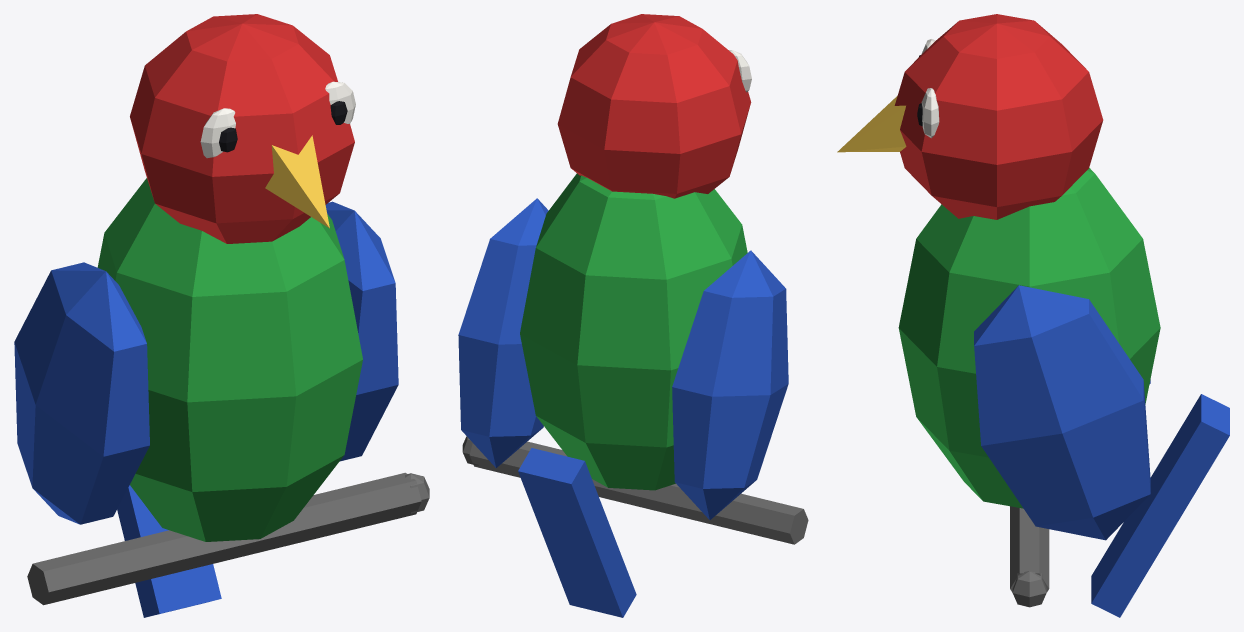
The model's file is cat_parrot.glb.
The picture shows the model from 3 angles, left to right: view 1: azimuth 30°, elevation 25°; view 2: azimuth 150°, elevation 25°; view 3: azimuth 270°, elevation 25°; orthographic projection. The views are drawn at different scales.
Parts seen in each view (by area): view 1: body_parrot_green, body_parrot_blue, head_parrot_red, legs_parrot_feet, head_beak, face_white, face_black; view 2: body_parrot_blue, body_parrot_green, head_parrot_red, legs_parrot_feet; view 3: body_parrot_blue, body_parrot_green, head_parrot_red, legs_parrot_feet, head_beak, face_white.
Part boxes in pixels (left/top/right/bottom): body_parrot_green: left=97, top=178, right=362, bottom=541; body_parrot_blue: left=14, top=201, right=398, bottom=617; head_parrot_red: left=130, top=14, right=354, bottom=243; legs_parrot_feet: left=27, top=472, right=429, bottom=605; head_beak: left=265, top=135, right=329, bottom=228; face_white: left=200, top=81, right=355, bottom=158; face_black: left=219, top=101, right=347, bottom=152; body_parrot_blue: left=458, top=198, right=788, bottom=617; body_parrot_green: left=520, top=173, right=747, bottom=490; head_parrot_red: left=557, top=14, right=751, bottom=198; legs_parrot_feet: left=462, top=436, right=808, bottom=544; body_parrot_blue: left=974, top=285, right=1229, bottom=617; body_parrot_green: left=898, top=168, right=1160, bottom=508; head_parrot_red: left=894, top=14, right=1103, bottom=219; legs_parrot_feet: left=1010, top=506, right=1049, bottom=607; head_beak: left=837, top=96, right=906, bottom=152; face_white: left=921, top=39, right=939, bottom=138.
Bounding box in the file's own units: 0.252 × 0.3912 × 0.24.
